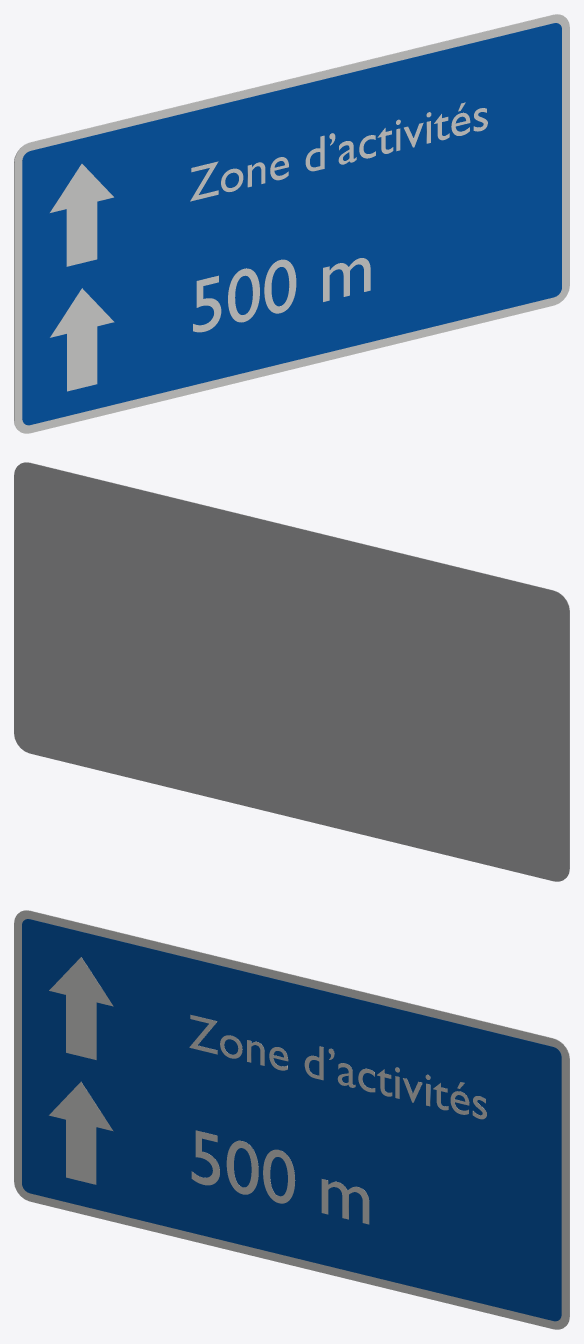
3 views of the same model, one above another, from view 1: azimuth 30°, elevation 25°; view 2: azimuth 150°, elevation 25°; view 3: azimuth 330°, elevation 25° (orthographic).
Visible parts, largest first — view 1: Dc43_fond01, Dc43_cadre00, Dc43_txt03, Dc43_txt05, Dc43_fl02, Dc43_fl04, Dc43_dos; view 2: Dc43_dos; view 3: Dc43_fond01, Dc43_cadre00, Dc43_txt05, Dc43_txt03, Dc43_fl04, Dc43_fl02, Dc43_dos.
Boxes of the visible parts, bbox=[...] form: Dc43_fond01: bbox=[22, 23, 561, 425]; Dc43_cadre00: bbox=[14, 14, 569, 433]; Dc43_txt03: bbox=[190, 102, 487, 201]; Dc43_txt05: bbox=[193, 258, 370, 332]; Dc43_fl02: bbox=[50, 164, 113, 266]; Dc43_fl04: bbox=[50, 288, 114, 391]; Dc43_dos: bbox=[14, 14, 560, 428]; Dc43_dos: bbox=[14, 462, 569, 881]; Dc43_fond01: bbox=[22, 919, 561, 1321]; Dc43_cadre00: bbox=[14, 910, 569, 1329]; Dc43_txt05: bbox=[191, 1130, 369, 1224]; Dc43_txt03: bbox=[189, 1014, 486, 1119]; Dc43_fl04: bbox=[49, 1081, 113, 1184]; Dc43_fl02: bbox=[49, 957, 113, 1059]; Dc43_dos: bbox=[23, 910, 569, 1324].
Size of the model in its own units: 1.4 by 0.7 by 0.0037.
